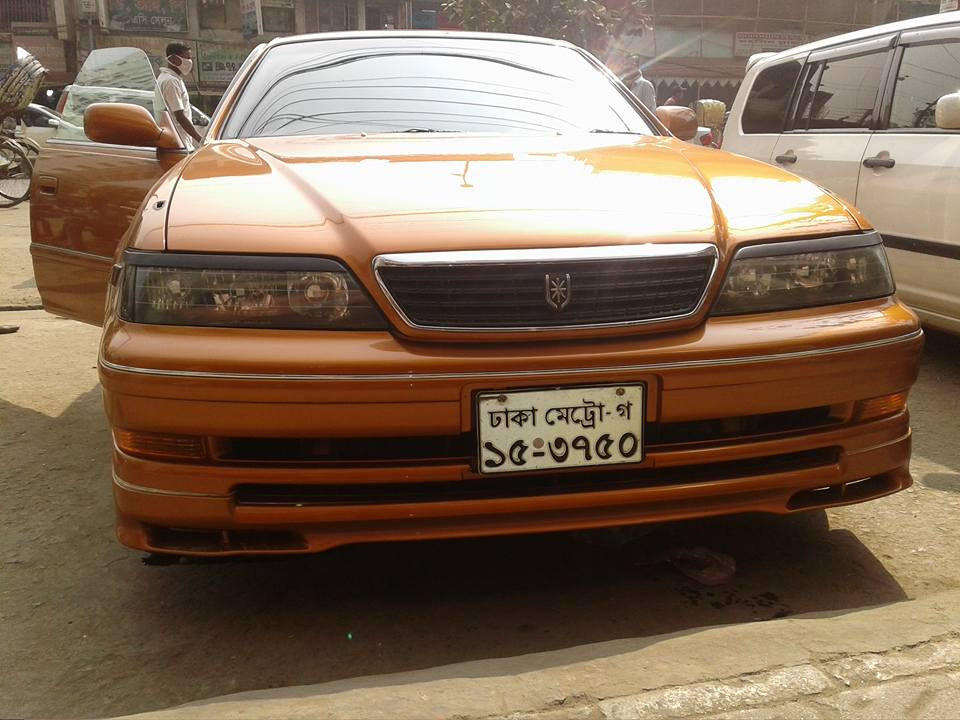registration_plate: (470, 380, 649, 479)
